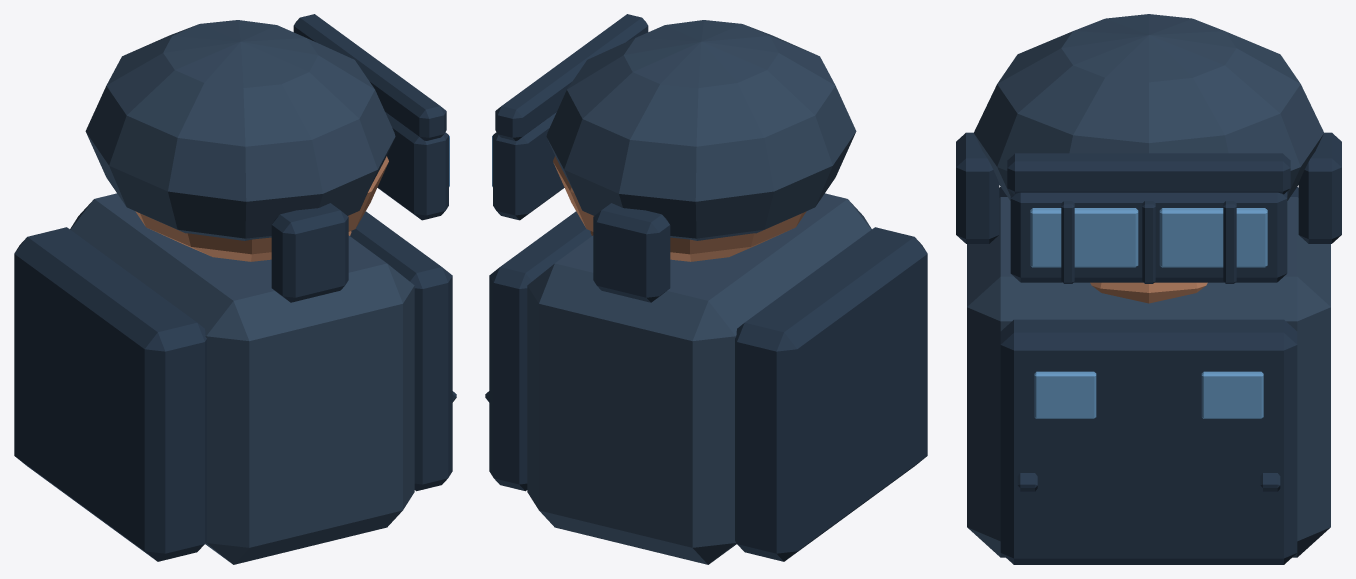
The model's file is night-ops.midnight-circuit.glb.
The picture shows the model from 3 angles, left to right: view 1: azimuth 30°, elevation 25°; view 2: azimuth 150°, elevation 25°; view 3: azimuth 270°, elevation 25°; orthographic projection. The views are drawn at different scales.
Parts seen in each view (by area): view 1: night-ops_midnight-circuit__main__torso_finish_33475d_0.03, night-ops_midnight-circuit__main__torso_finish_26384d_0.03, night-ops_midnight-circuit__main__head_finish_33475d_0.03, night-ops_midnight-circuit__main__head_finish_26384d_0.03, night-ops_midnight-circuit__main__head_finish_bb8262_0.03; view 2: night-ops_midnight-circuit__main__torso_finish_33475d_0.03, night-ops_midnight-circuit__main__torso_finish_26384d_0.03, night-ops_midnight-circuit__main__head_finish_33475d_0.03, night-ops_midnight-circuit__main__head_finish_26384d_0.03, night-ops_midnight-circuit__main__head_finish_bb8262_0.03; view 3: night-ops_midnight-circuit__main__torso_finish_26384d_0.03, night-ops_midnight-circuit__main__head_finish_33475d_0.03, night-ops_midnight-circuit__main__head_finish_26384d_0.03, night-ops_midnight-circuit__main__torso_finish_33475d_0.03, night-ops_midnight-circuit__main__head_finish_689dca_0.03, night-ops_midnight-circuit__main__torso_finish_689dca_0.03, night-ops_midnight-circuit__main__head_finish_bb8262_0.03.
Boxes of the visible parts, x1=… form: night-ops_midnight-circuit__main__torso_finish_33475d_0.03: x1=70, y1=193, x2=414, y2=564; night-ops_midnight-circuit__main__torso_finish_26384d_0.03: x1=14, y1=211, x2=456, y2=561; night-ops_midnight-circuit__main__head_finish_33475d_0.03: x1=85, y1=20, x2=395, y2=240; night-ops_midnight-circuit__main__head_finish_26384d_0.03: x1=271, y1=14, x2=448, y2=302; night-ops_midnight-circuit__main__head_finish_bb8262_0.03: x1=135, y1=156, x2=388, y2=261; night-ops_midnight-circuit__main__torso_finish_33475d_0.03: x1=527, y1=193, x2=871, y2=564; night-ops_midnight-circuit__main__torso_finish_26384d_0.03: x1=485, y1=211, x2=927, y2=561; night-ops_midnight-circuit__main__head_finish_33475d_0.03: x1=546, y1=20, x2=856, y2=240; night-ops_midnight-circuit__main__head_finish_26384d_0.03: x1=493, y1=14, x2=670, y2=302; night-ops_midnight-circuit__main__head_finish_bb8262_0.03: x1=553, y1=156, x2=806, y2=261; night-ops_midnight-circuit__main__torso_finish_26384d_0.03: x1=999, y1=187, x2=1298, y2=564; night-ops_midnight-circuit__main__head_finish_33475d_0.03: x1=974, y1=14, x2=1323, y2=200; night-ops_midnight-circuit__main__head_finish_26384d_0.03: x1=956, y1=132, x2=1341, y2=283; night-ops_midnight-circuit__main__torso_finish_33475d_0.03: x1=967, y1=197, x2=1330, y2=557; night-ops_midnight-circuit__main__head_finish_689dca_0.03: x1=1030, y1=208, x2=1267, y2=267; night-ops_midnight-circuit__main__torso_finish_689dca_0.03: x1=1034, y1=371, x2=1263, y2=418; night-ops_midnight-circuit__main__head_finish_bb8262_0.03: x1=1090, y1=282, x2=1207, y2=303.
Bounding box in the file's own units: 29.5 × 39.5 × 28.6.
